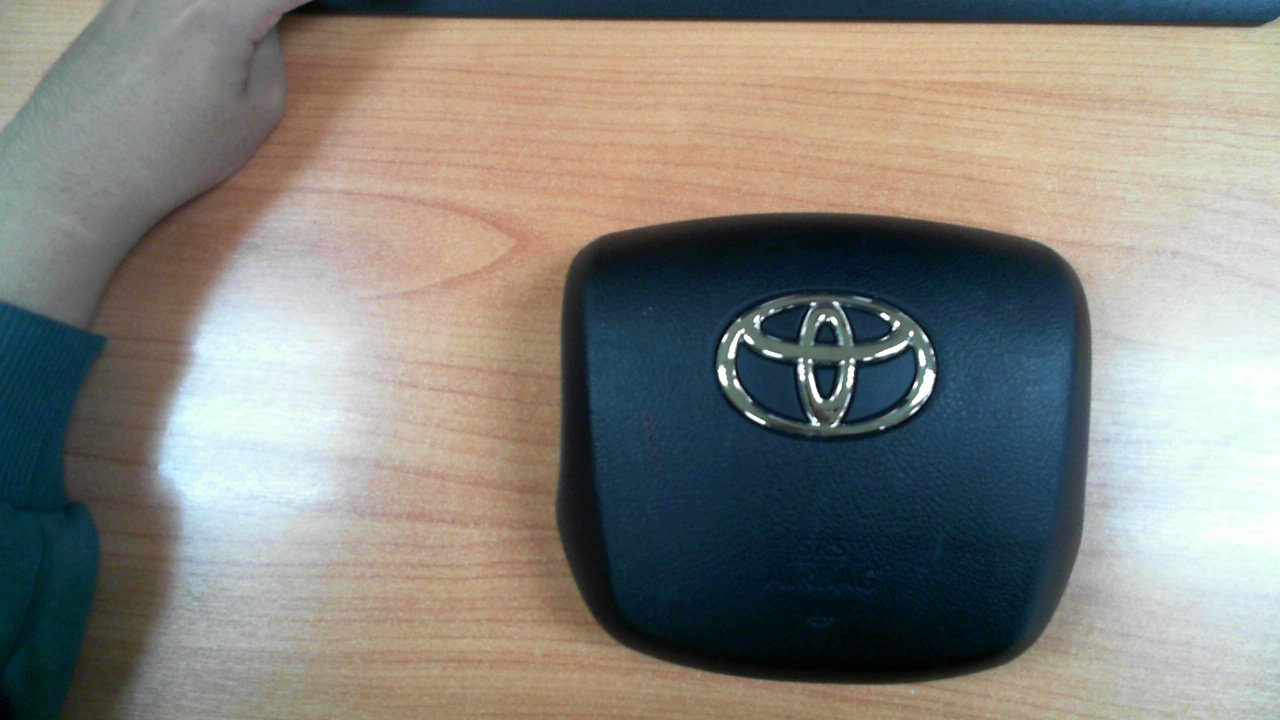Airbag: (548, 217, 1102, 684)
Toyota: (715, 293, 937, 437)
